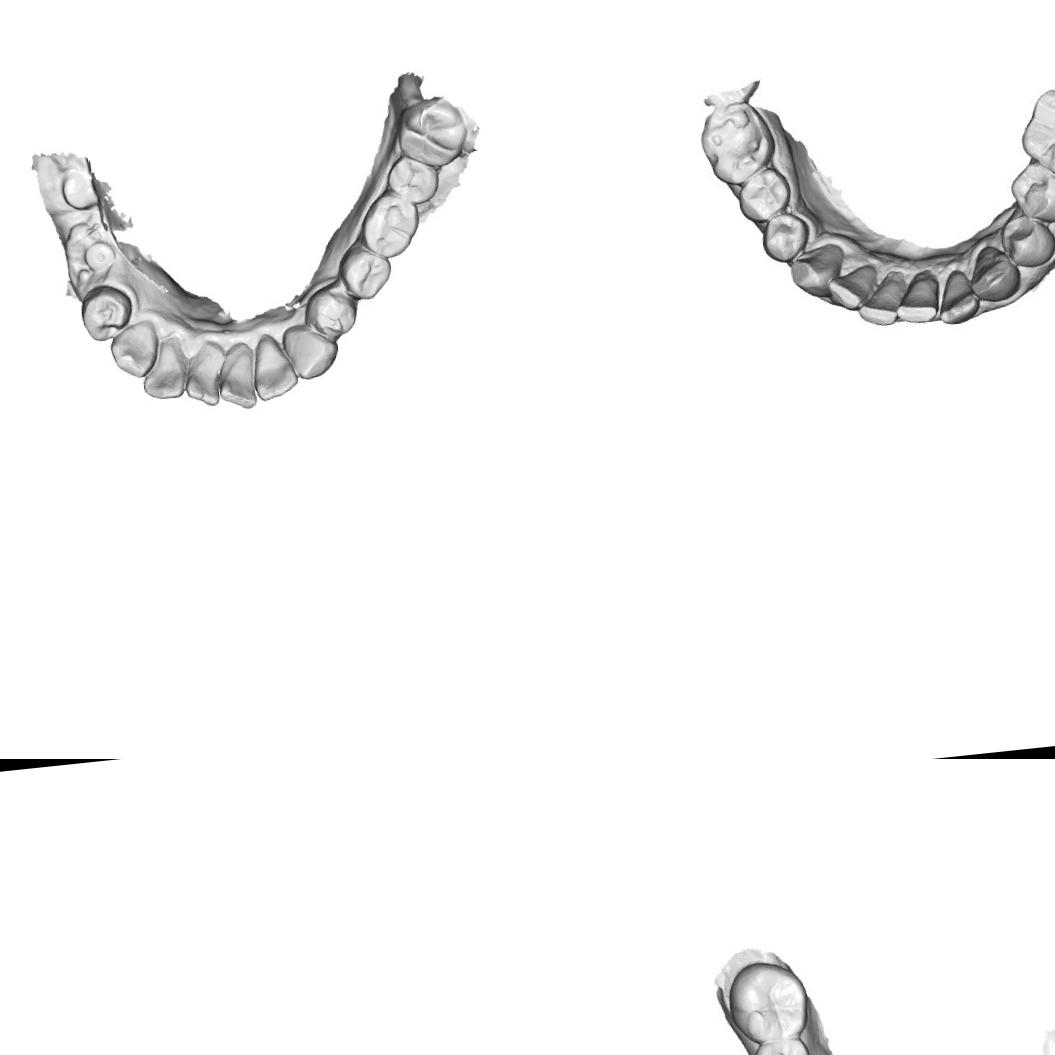canine: (279, 320, 341, 384), (106, 318, 162, 381), (966, 244, 1024, 300), (791, 241, 845, 299)
implant: (81, 238, 118, 274)
incisor: (136, 332, 194, 402), (212, 339, 264, 414), (179, 336, 231, 410), (250, 328, 300, 403), (936, 270, 983, 322), (897, 276, 941, 320), (861, 278, 901, 324), (830, 265, 874, 305)
molar: (722, 957, 810, 1050), (697, 100, 776, 180), (391, 95, 469, 174), (354, 189, 424, 263), (380, 147, 444, 210), (1015, 82, 1055, 171)
premolar: (297, 282, 363, 345), (334, 238, 396, 304), (76, 282, 136, 344), (733, 168, 790, 222), (1000, 213, 1055, 267), (1006, 165, 1055, 224), (762, 209, 807, 260), (745, 1033, 819, 1055)
